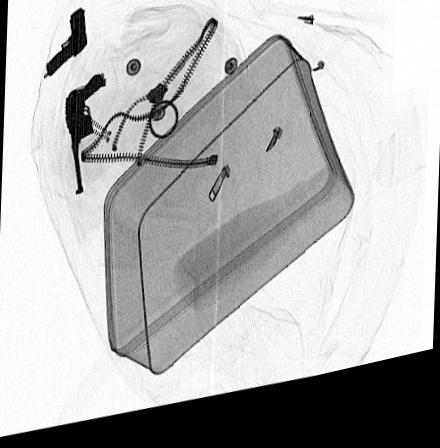Gun: (64, 78, 102, 200), (44, 10, 87, 80)
